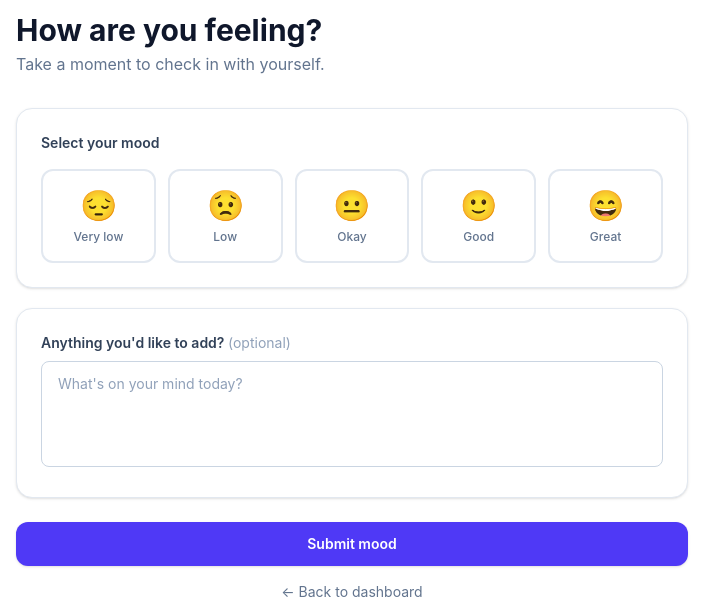
Scenario: MoodPage › shows resources after successful submission
This screenshot has width=705, height=614.
Click the radio button labelled "😄 Great". click: (606, 216)
box: [548, 169, 663, 263]
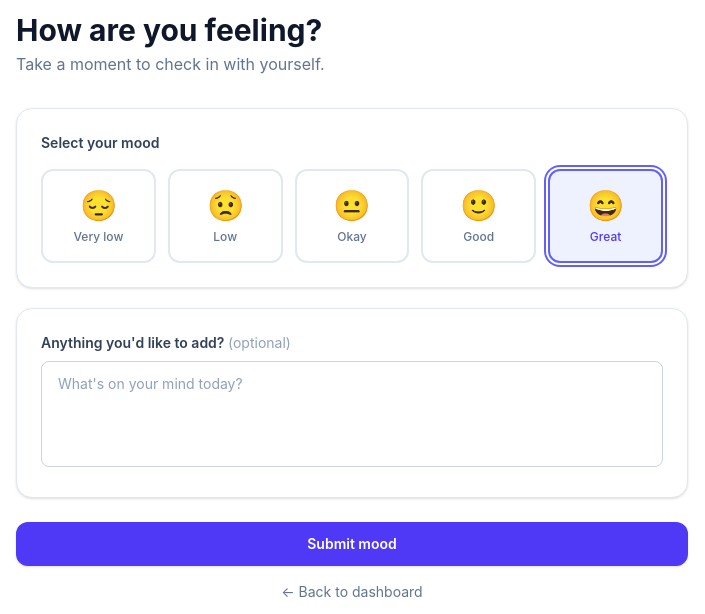
Click the button "Submit mood". click: (352, 544)
box: [16, 522, 688, 566]
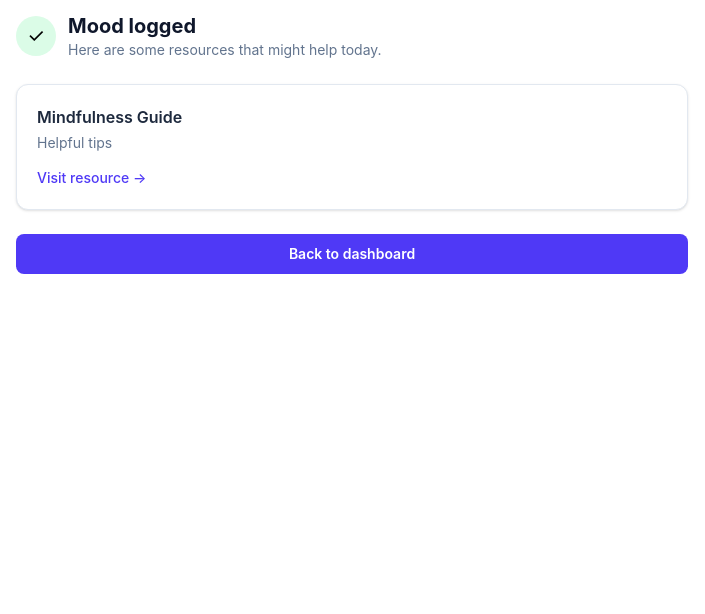
Check: the heading "Mindfulness Guide" is shown, box [37, 107, 182, 127]
